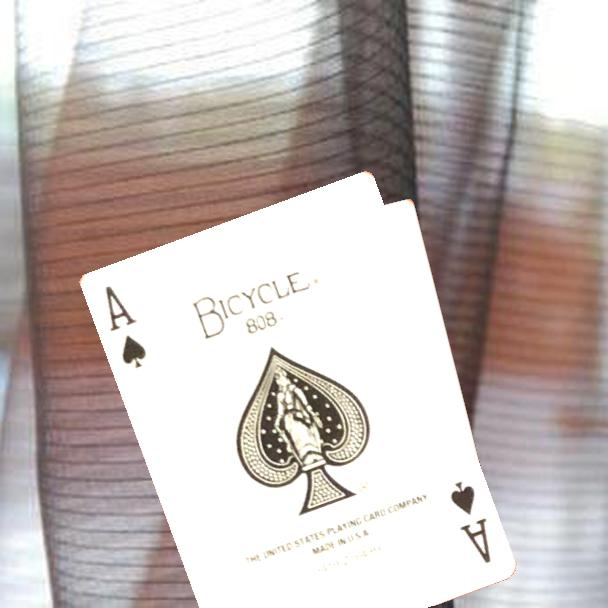s01: (101, 282, 149, 371), (446, 477, 493, 566)
